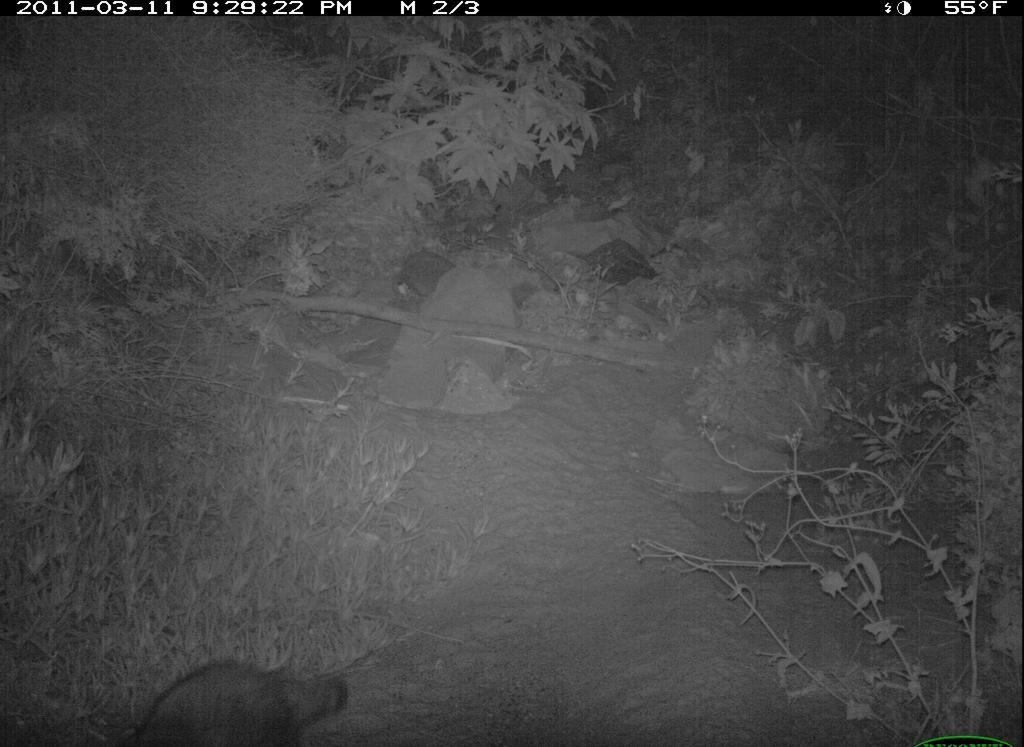raccoon: (120, 653, 364, 745)
